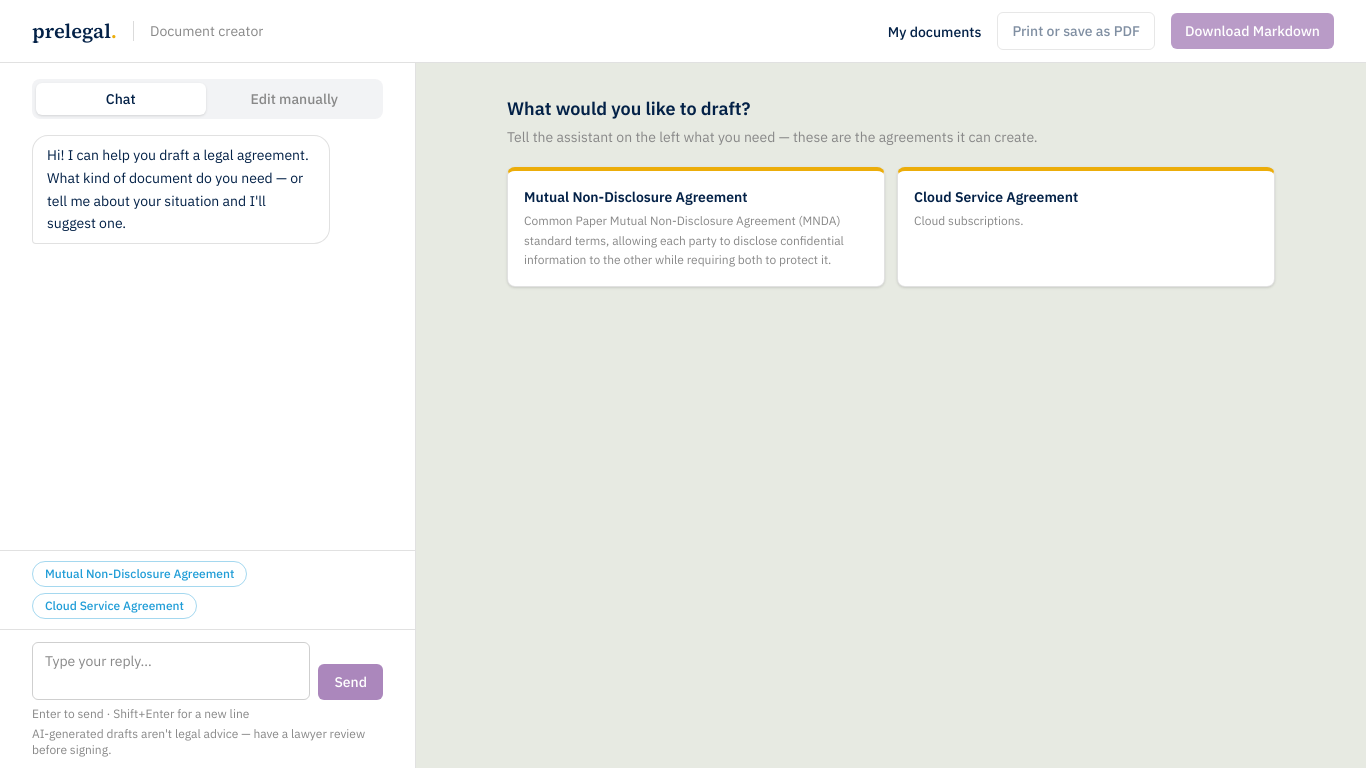
Test: CreatePage › selecting a document via chat loads its template into the preview
This screenshot has width=1366, height=768.
Check: the button "Cloud Service Agreement" is shown, box x1=32 y1=593 x2=197 y2=619
Type "We sell SaaS subscriptions" into the text box named "Message the drafting assistant". click: (171, 671)
box: x1=32 y1=642 x2=310 y2=700
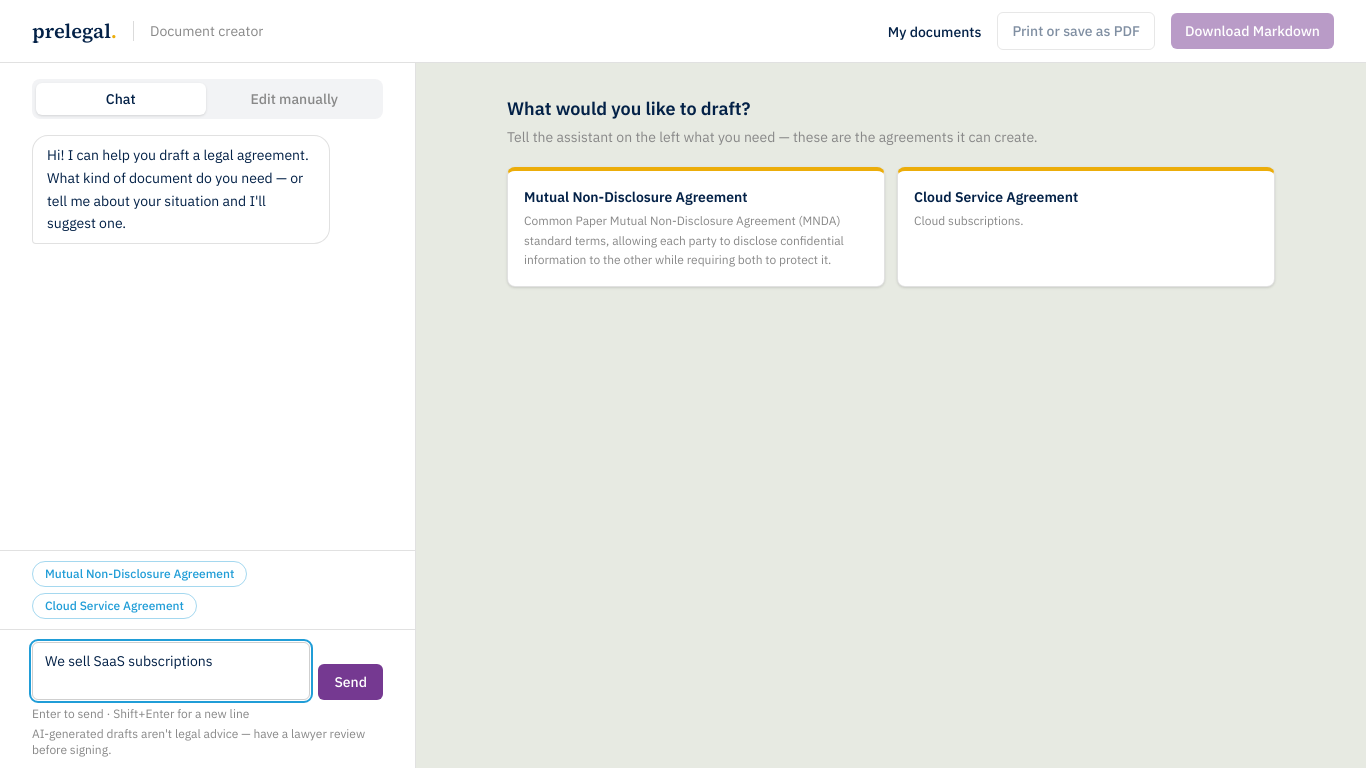
Click the button "Send". click: (351, 682)
box: x1=318 y1=664 x2=383 y2=700
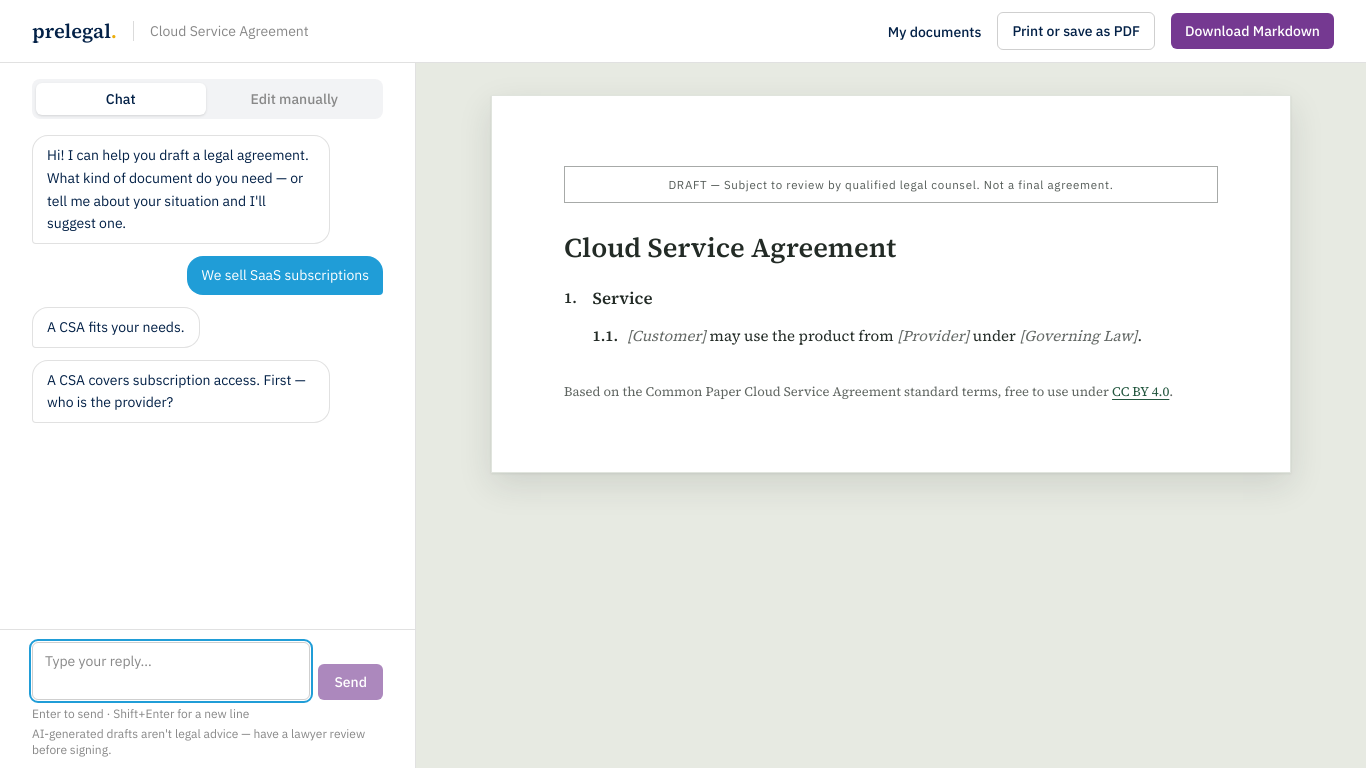
Check: the text "A CSA covers subscription access. First — who is the provider?" is shown, box x1=32 y1=360 x2=330 y2=423
Check: the text "[Provider]" is shown, box x1=897 y1=325 x2=969 y2=346
Check: the button "Download Markdown" is enabled, box x1=1171 y1=13 x2=1334 y2=49
